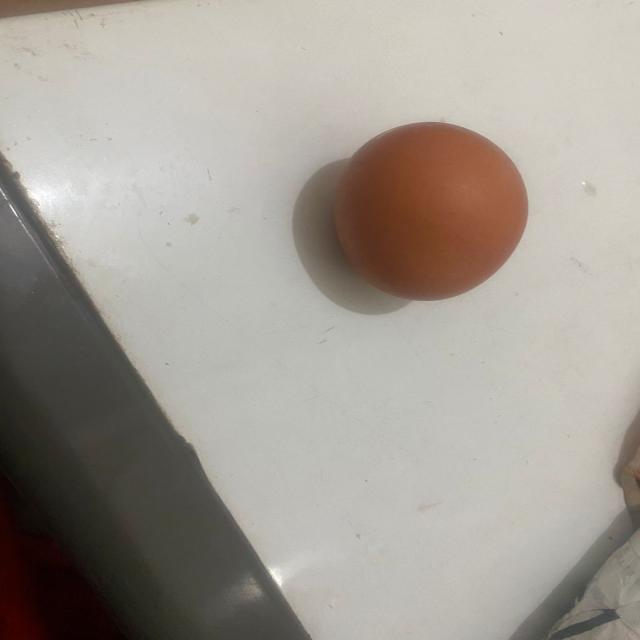egg: (326, 120, 536, 304)
